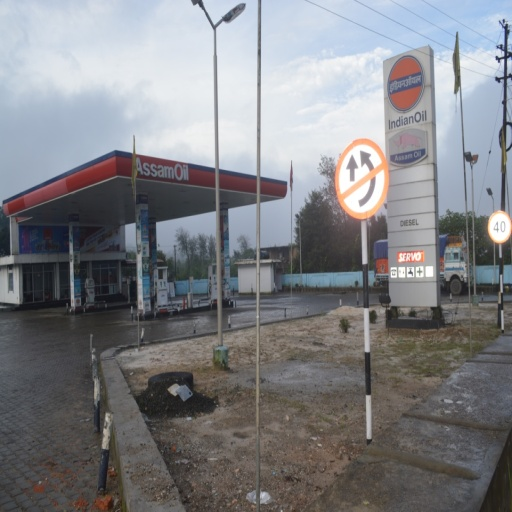roof: (5, 148, 289, 225)
